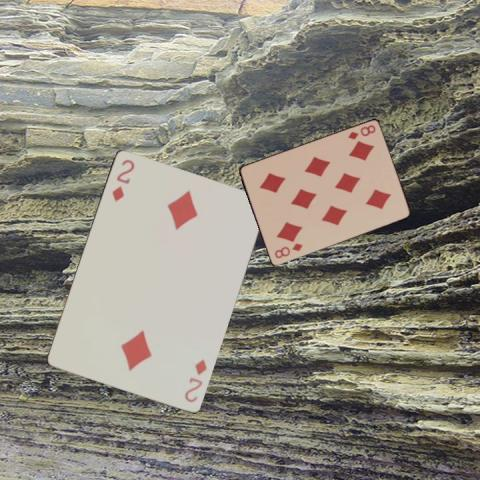2d: (181, 356, 209, 404), (109, 157, 137, 203)
8d: (271, 241, 304, 260), (344, 122, 376, 141)
